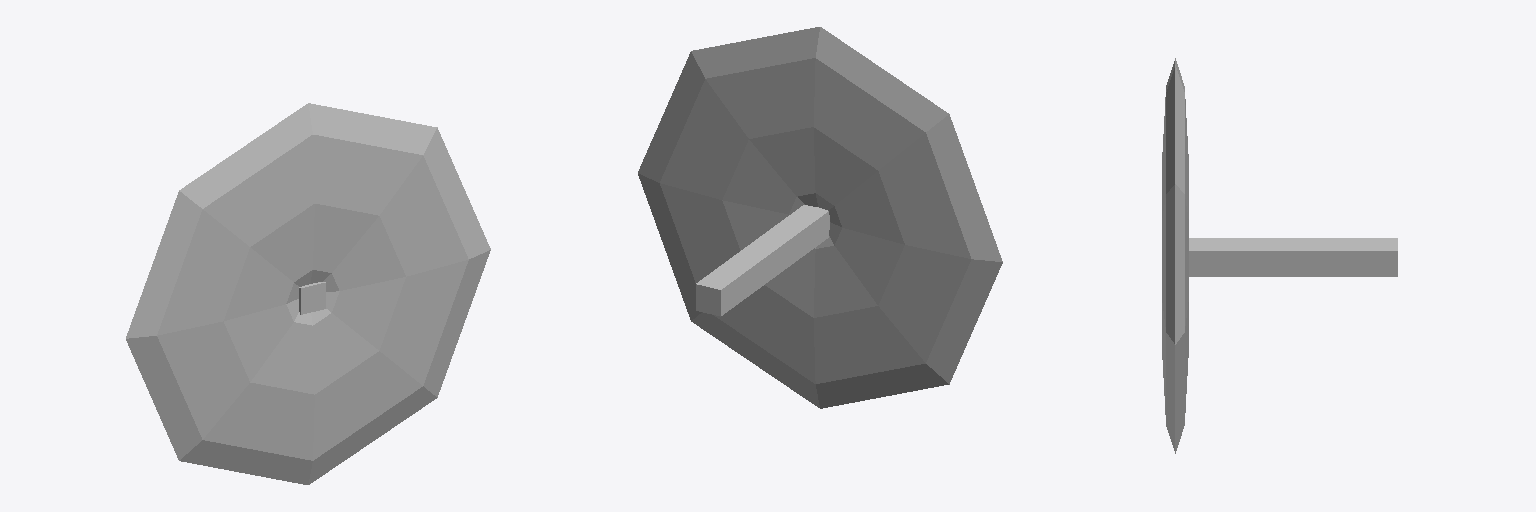
Rendered from RetreiverRightSaw.obj.
3 views of the same model, side by side, from view 1: azimuth 30°, elevation 25°; view 2: azimuth 150°, elevation 25°; view 3: azimuth 270°, elevation 25° (orthographic).
Visible parts, largest first — view 1: RightSaw; view 2: RightSaw; view 3: RightSaw.
Part boxes in pixels (bbox=[...]): RightSaw: bbox=[126, 103, 490, 484]; RightSaw: bbox=[638, 27, 1002, 408]; RightSaw: bbox=[1162, 58, 1397, 453].
Bounding box in the file's own units: 0.6102 × 0.6102 × 0.3405.